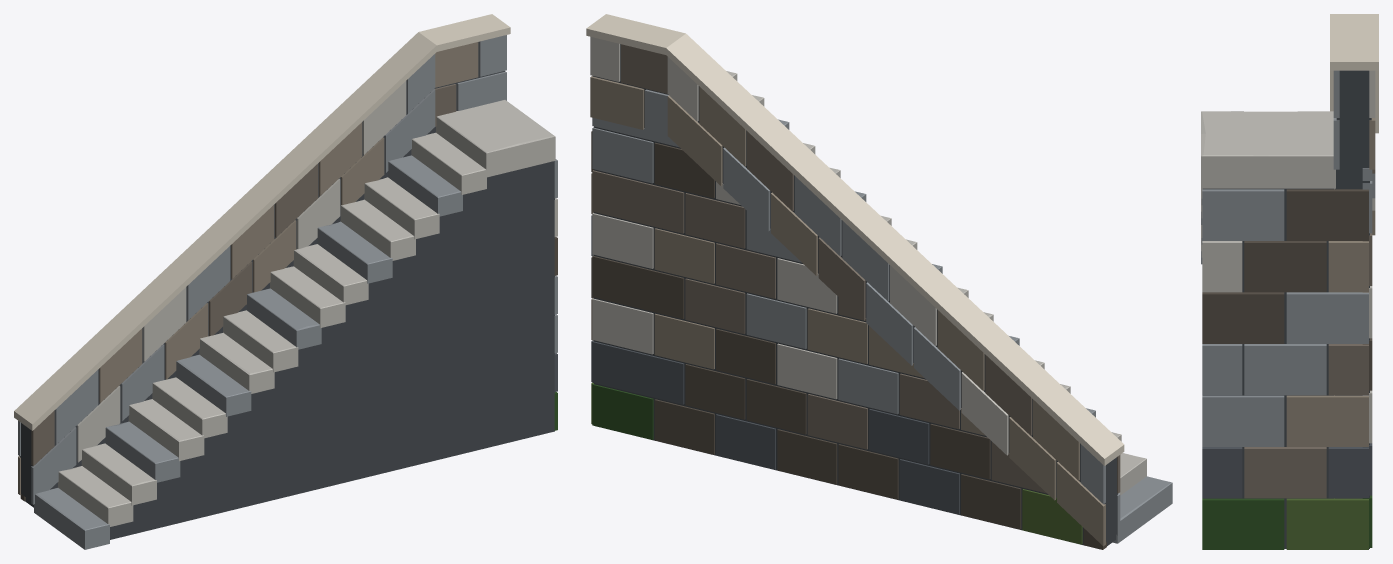
Rendered from mdvl_castle_curtain_stair_01.glb.
3 views of the same model, side by side, from view 1: azimuth 30°, elevation 25°; view 2: azimuth 150°, elevation 25°; view 3: azimuth 270°, elevation 25° (orthographic). The views are drawn at different scales.
Visible parts, largest first — view 1: mdvl_castle_curtain_stair_01; view 2: mdvl_castle_curtain_stair_01; view 3: mdvl_castle_curtain_stair_01.
Boxes of the visible parts, left/top/right/bottom form: mdvl_castle_curtain_stair_01: left=14, top=14, right=557, bottom=549; mdvl_castle_curtain_stair_01: left=586, top=14, right=1172, bottom=549; mdvl_castle_curtain_stair_01: left=1201, top=14, right=1378, bottom=549.
Size of the model in its own units: 6.09 by 4.52 by 1.47.
Materials: 1 (1 with a texture image).
